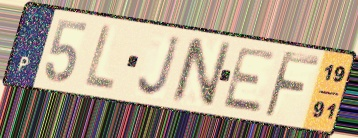5: (42, 16, 90, 86)
E: (220, 45, 280, 116)
F: (261, 48, 322, 121)
J: (136, 34, 184, 100)
L: (81, 22, 117, 94)
N: (169, 35, 235, 109)
